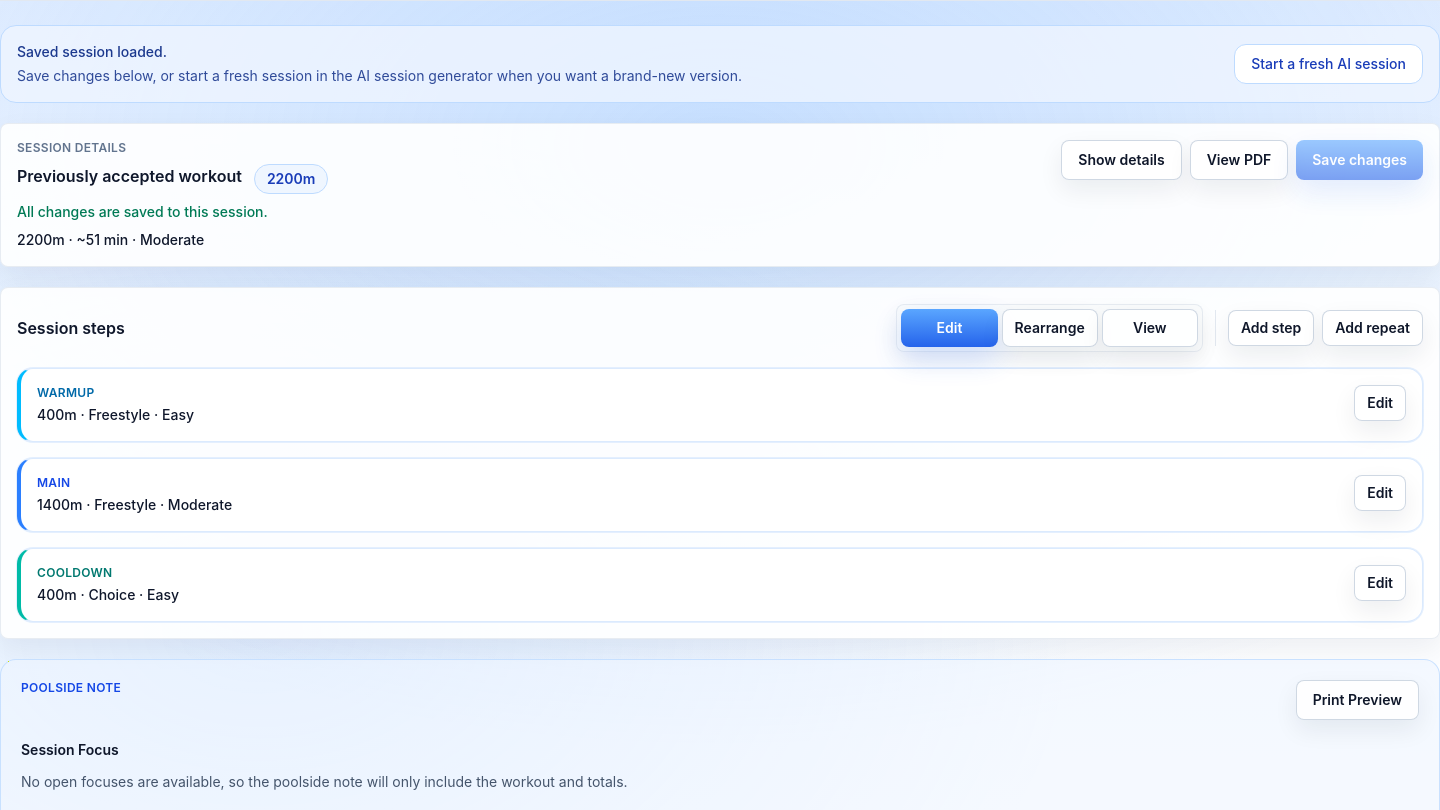
it: SessionGeneratorPanel › supports discard and undo in the shared saved-session editor
The width and height of the screenshot is (1440, 810).
Step 1. Click the button with test id "workout-editor-metadata-toggle" → (1122, 160), box [1061,140,1182,180]
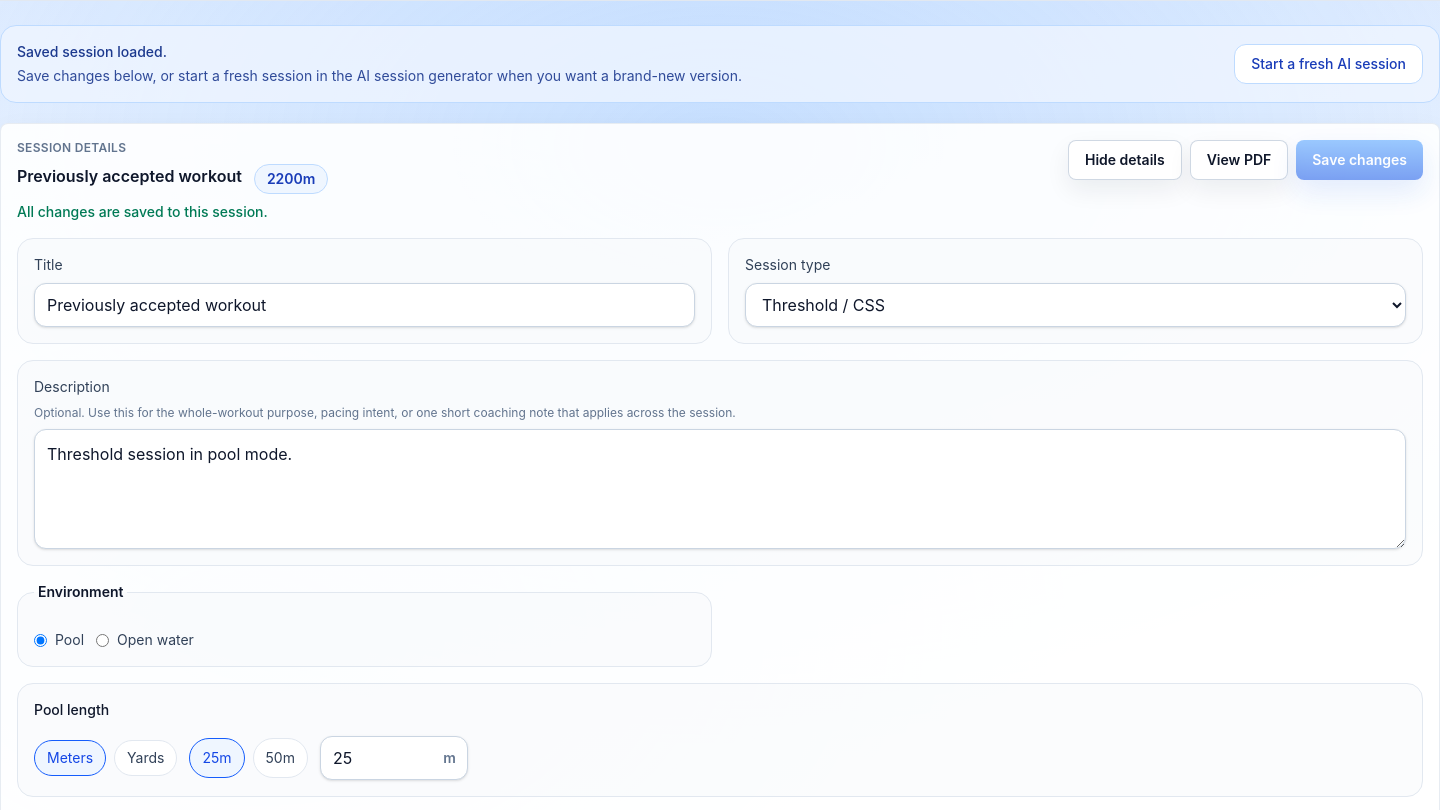
Result: the button with test id "workout-editor-metadata-toggle" is expanded at [1068,140,1182,180]
Result: the field with test id "session-draft-title" is shown
Step 2. Replace the text in the field with test id "session-draft-title" with "Temporary generator title" → (364, 305), box [34,283,695,327]
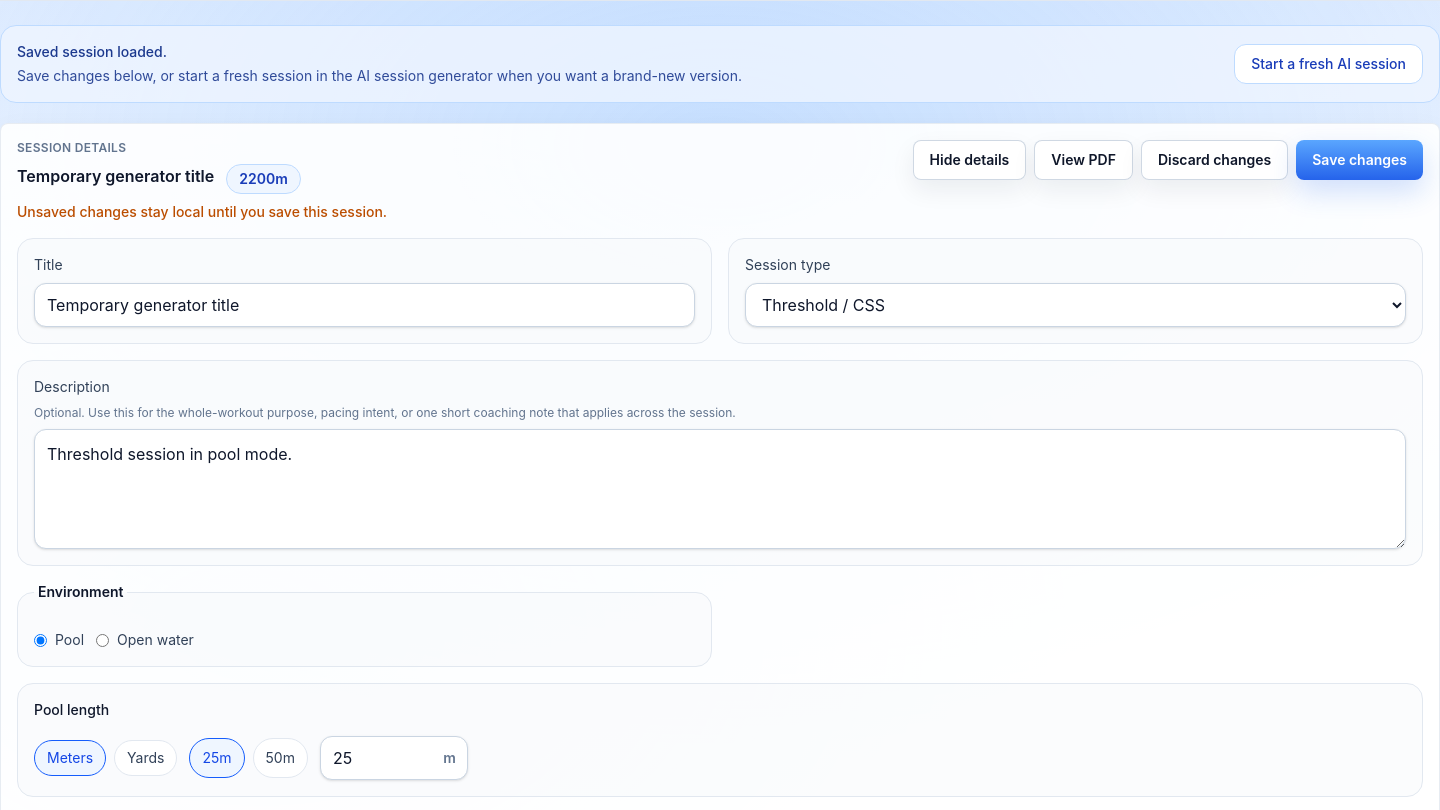
Result: the button "Discard changes" is shown
Step 3. Click the button "Discard changes" → (1215, 160), box [1141,140,1288,180]
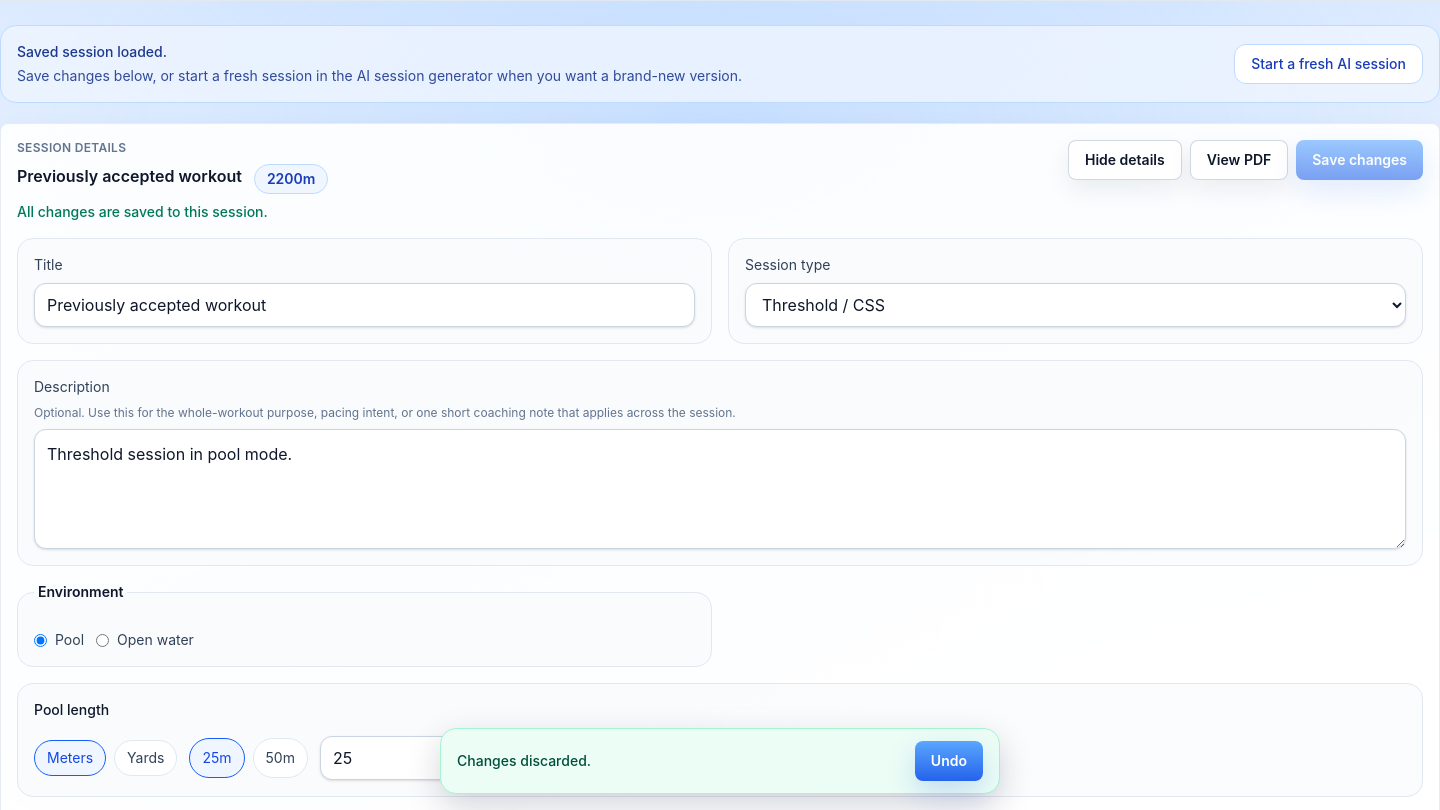
Result: the element with test id "workout-editor-discard-undo" shows "Changes discarded." at [457,752,591,769]
Result: the field with test id "session-draft-title" holds "Previously accepted workout" at [34,283,695,327]
Result: the button "Discard changes" is gone
Step 4. Click the button with test id "workout-editor-discard-undo-button" → (949, 761), box [915,741,983,781]
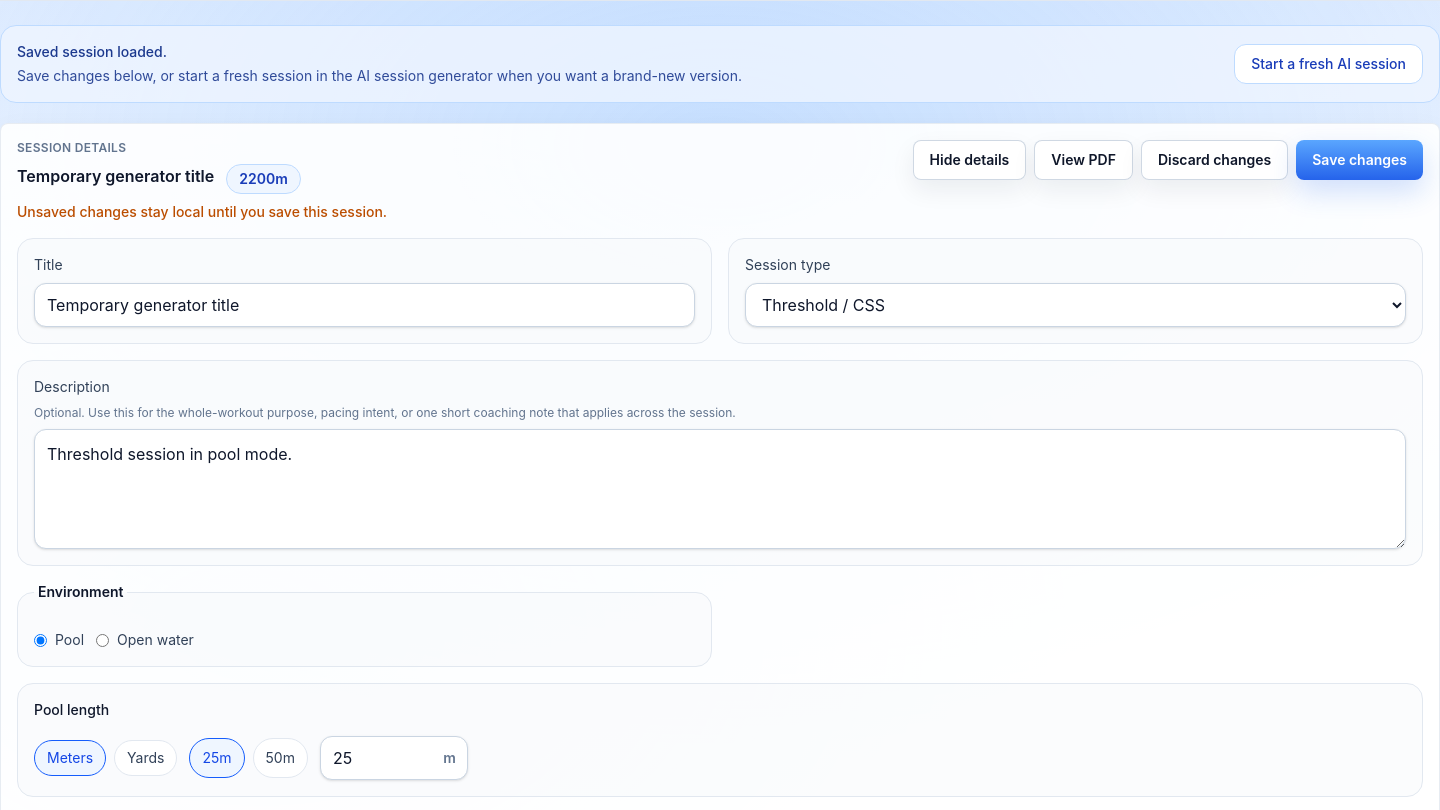
Result: the element with test id "workout-editor-discard-undo" is gone
Result: the button "Discard changes" is shown at [1141,140,1288,180]
